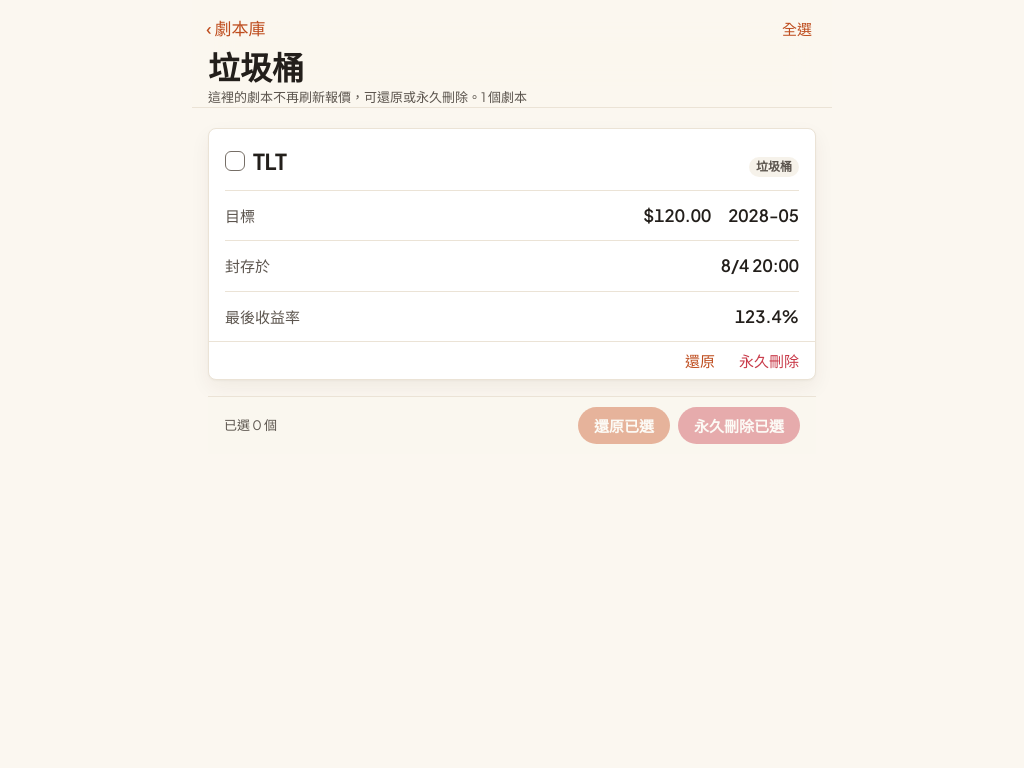
Test case: 單筆永久刪除與二次確認（TR4／#92） › 確認永久刪除：呼叫刪除端點，成功後從垃圾桶清單消失
Expected: the text "TLT" is shown, [253,145,287,178]
Click the button with aria-label "永久刪除 TLT 2028-05": [769, 361] box [735,342,803,379]
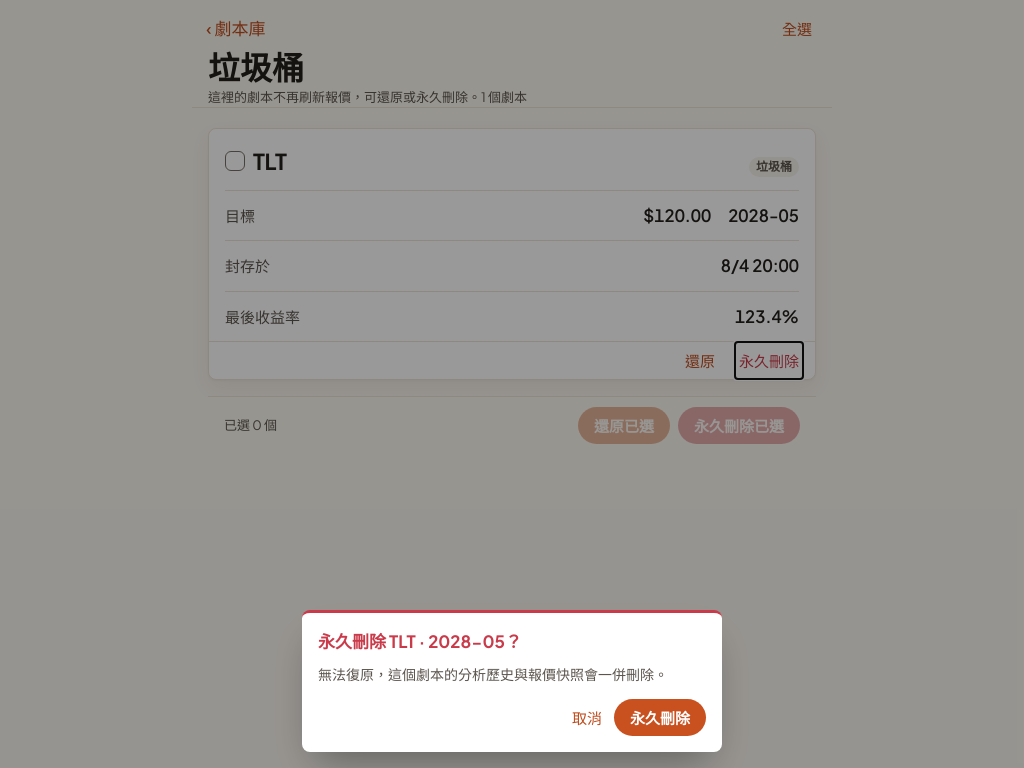
Result: the dialog is shown at [302,610,722,752]
Click the button "永久刪除": [660, 718] box [614,699,706,736]
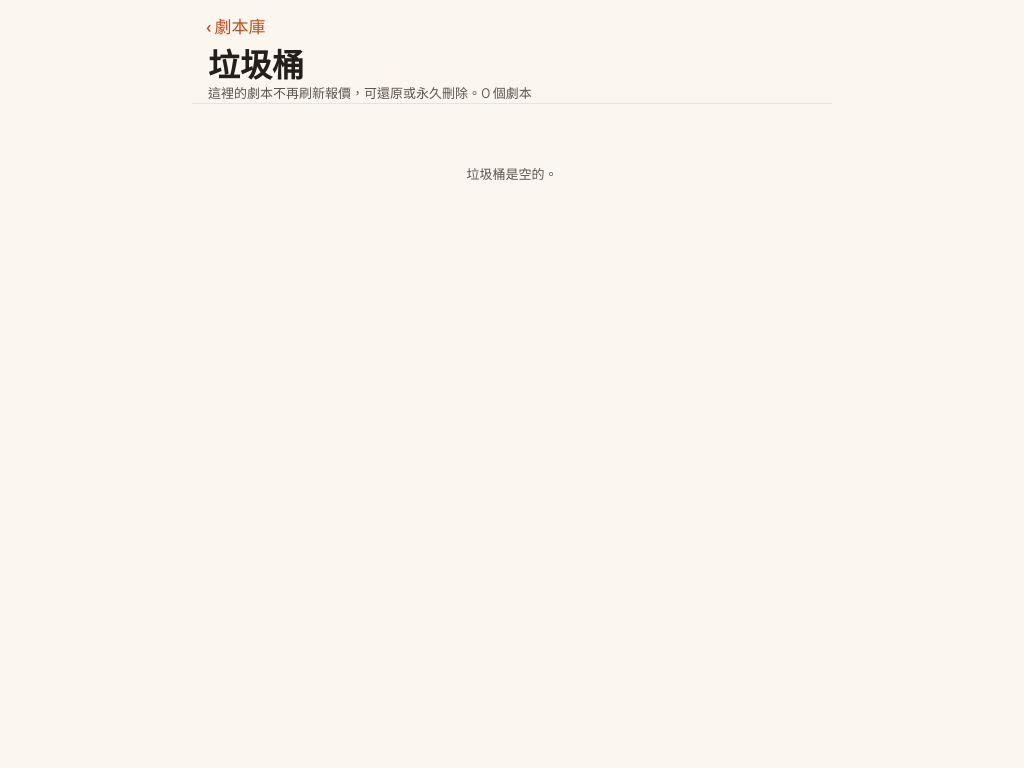
Result: the text "TLT" is gone
Result: the dialog is gone
